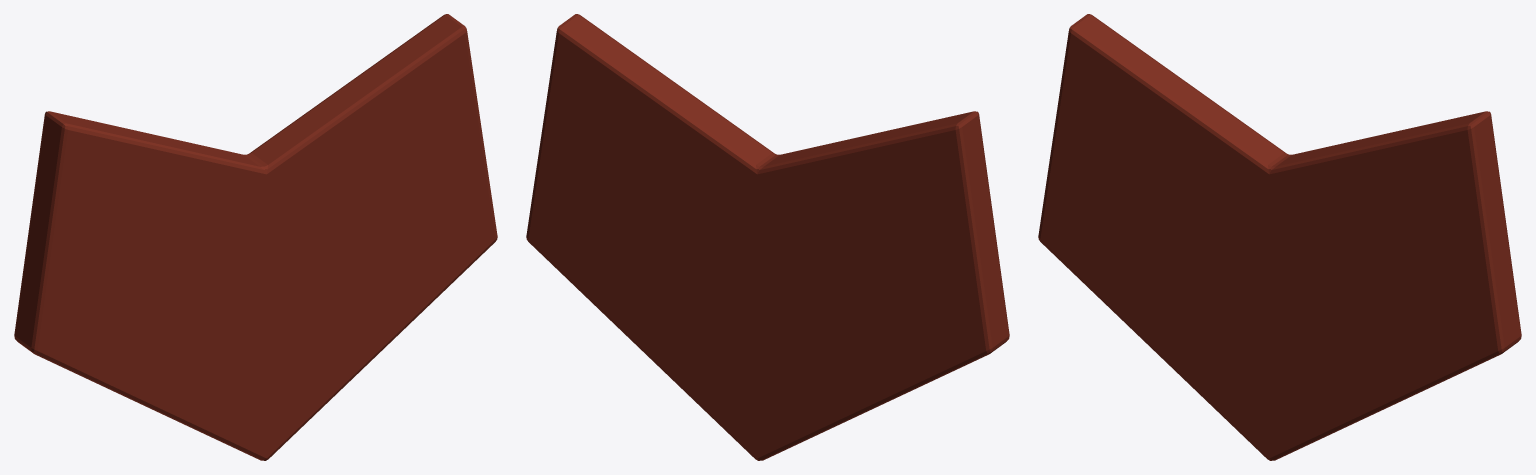
File: pelte_light_shield_LOD2.glb
3 views of the same model, side by side, from view 1: azimuth 30°, elevation 25°; view 2: azimuth 150°, elevation 25°; view 3: azimuth 330°, elevation 25° (orthographic).
Parts seen in each view (by area): view 1: LOD2_Pelte; view 2: LOD2_Pelte; view 3: LOD2_Pelte.
Part boxes in pixels (left/top/right/bottom): LOD2_Pelte: left=14, top=14, right=497, bottom=460; LOD2_Pelte: left=526, top=14, right=1009, bottom=460; LOD2_Pelte: left=1038, top=14, right=1521, bottom=460.
Size of the model in its own units: 0.8776 by 0.6943 by 0.07.
